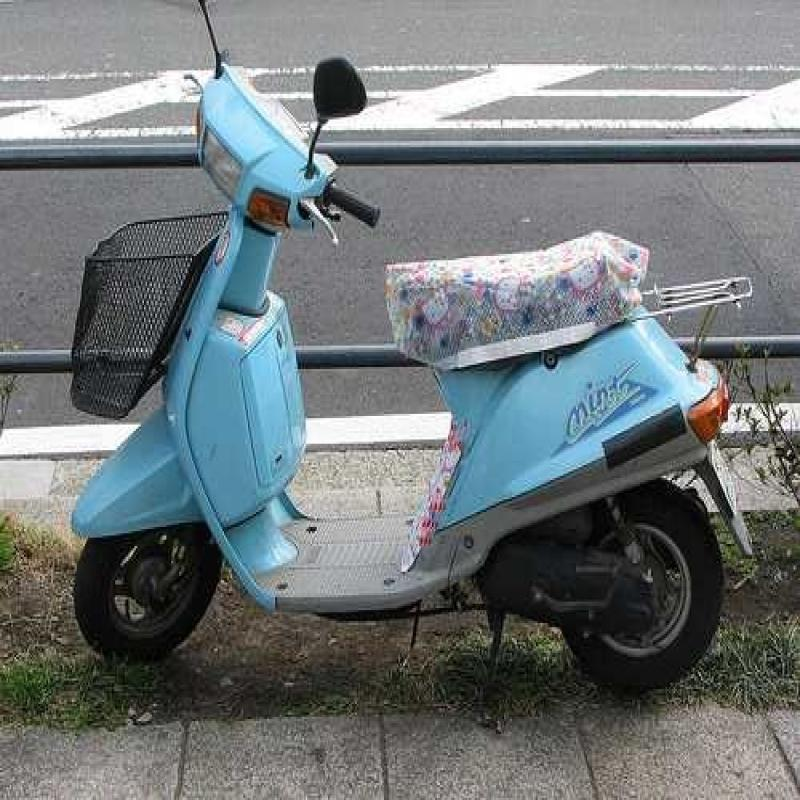bike: (69, 36, 731, 756)
